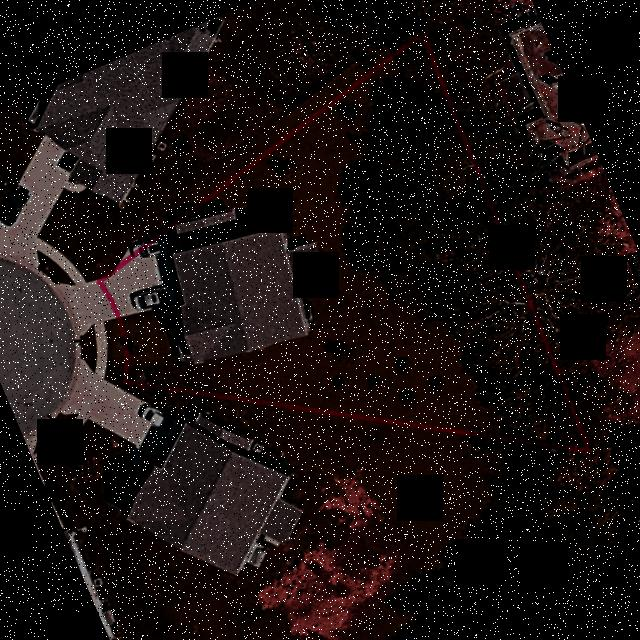Driveway: (103, 257, 160, 315)
Extra Driveway: (52, 278, 115, 336)
Extra Lawn: (104, 321, 123, 387), (79, 327, 93, 370)
Extra Sidewalk: (91, 321, 108, 378)
House: (172, 208, 324, 362)
